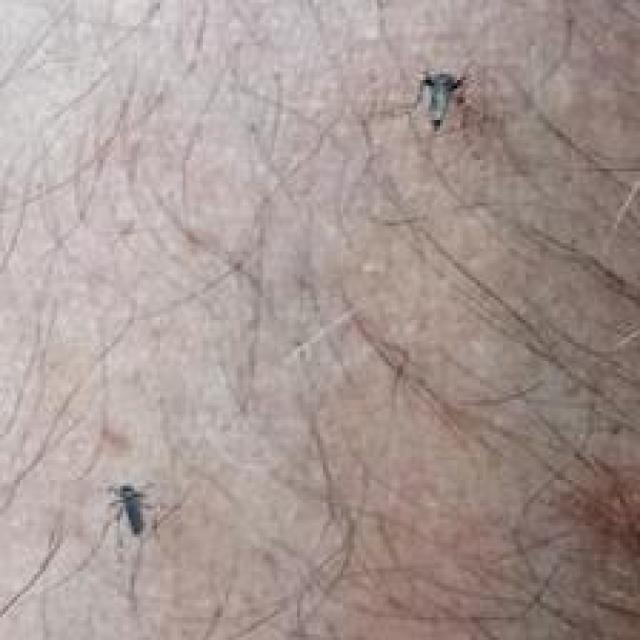Aedes albopictus: (107, 481, 150, 536)
